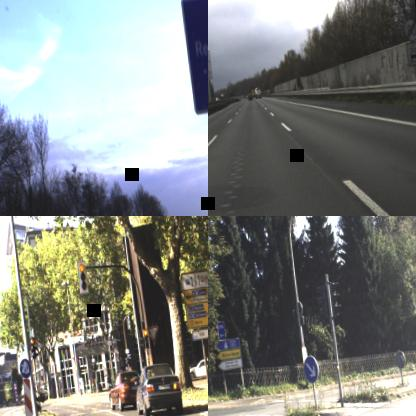give way: (146, 324, 159, 344)
keep right: (301, 354, 320, 383), (18, 357, 32, 379)
restriction ends: (402, 17, 416, 42)
speed limit 120: (74, 208, 90, 216)
